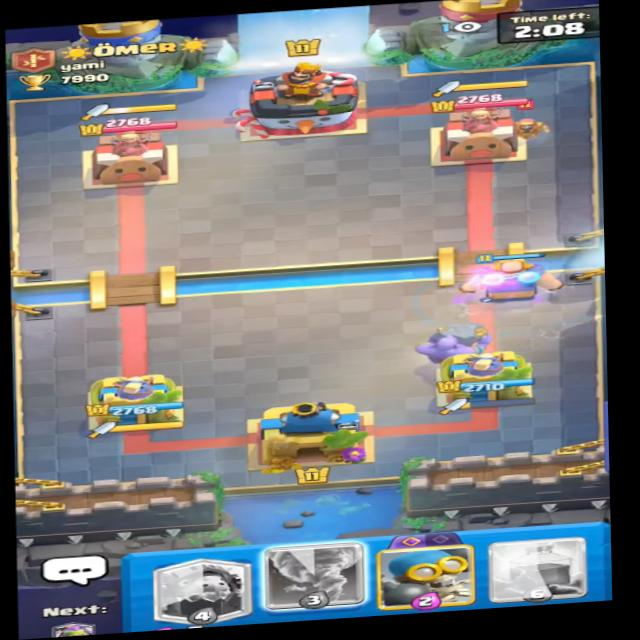wizard: (498, 102, 549, 148)
